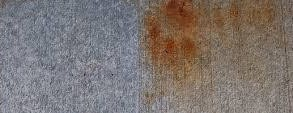Corrosion: (139, 1, 293, 113)
